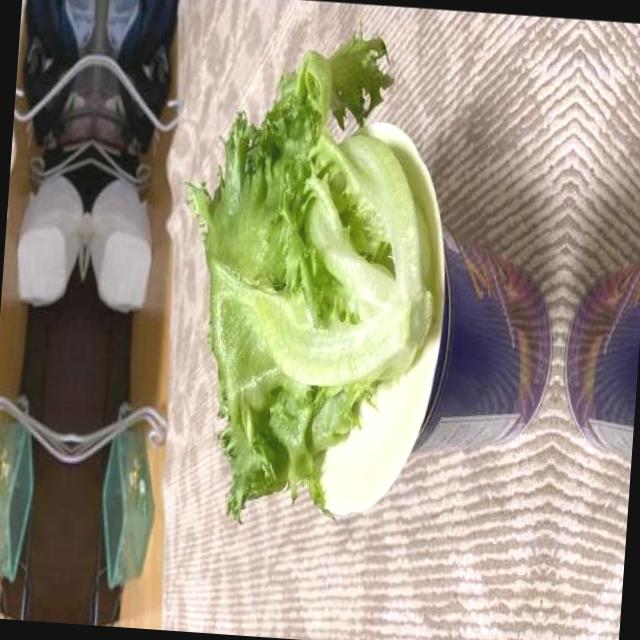healthy: (163, 21, 459, 538)
